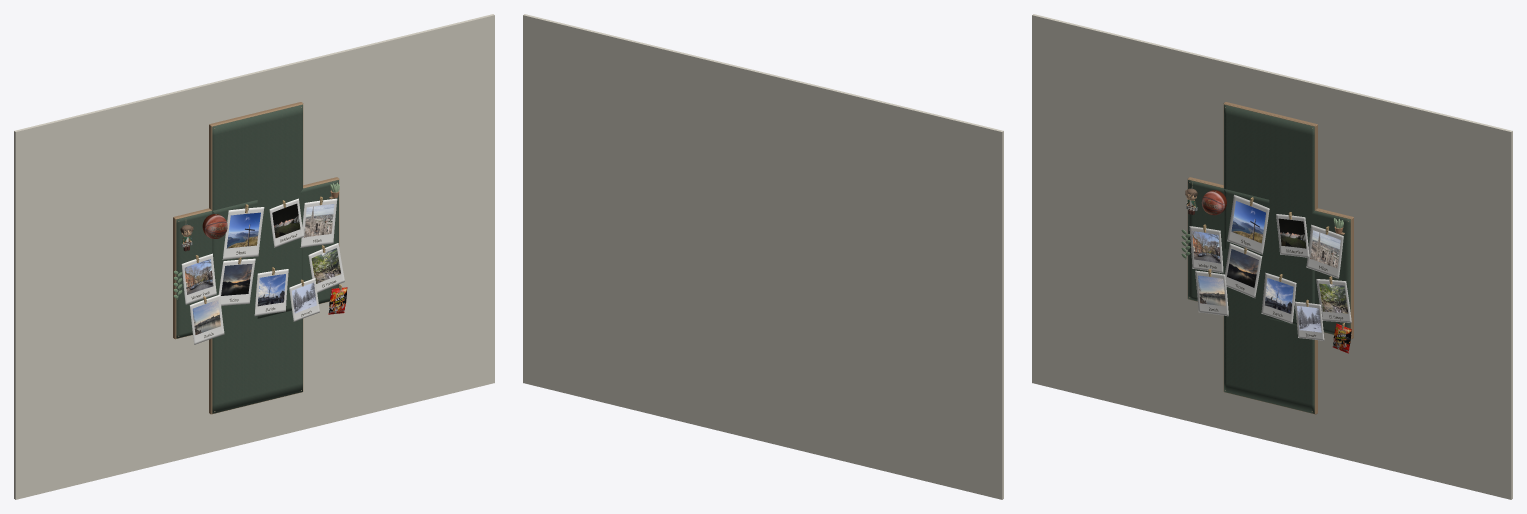
File: travel-board.glb
3 views of the same model, side by side, from view 1: azimuth 30°, elevation 25°; view 2: azimuth 150°, elevation 25°; view 3: azimuth 330°, elevation 25° (orthographic).
Visible parts, largest first — view 1: Wall, CanvasBoardPortrait_Olive cotton canvas fabric, CanvasBoardLandscape_Olive cotton canvas fabric, Photo_17_Original photograph 17, Photo_4_Original photograph 4, Photo_1_Original photograph 1, Photo_17_Warm cotton photo paper, Photo_12_Original photograph 12, Photo_15_Original photograph 15, CanvasBoardPortrait_Honey oak canvas stretcher, Photo_11_Original photograph 11, Photo_3_Original photograph 3 (+11 smaller); view 2: Wall; view 3: Wall, CanvasBoardPortrait_Olive cotton canvas fabric, CanvasBoardLandscape_Olive cotton canvas fabric, Photo_17_Original photograph 17, Photo_4_Original photograph 4, Photo_1_Original photograph 1, Photo_17_Warm cotton photo paper, Photo_15_Original photograph 15, Photo_12_Original photograph 12, CanvasBoardPortrait_Honey oak canvas stretcher, Photo_11_Original photograph 11, Photo_3_Original photograph 3 (+11 smaller).
Boxes of the visible parts, x1,y1,x2,y2 form: Wall: (14,14,494,499); CanvasBoardPortrait_Olive cotton canvas fabric: (212,104,302,413); CanvasBoardLandscape_Olive cotton canvas fabric: (176,180,338,338); Photo_17_Original photograph 17: (226,212,260,248); Photo_4_Original photograph 4: (304,204,334,237); Photo_1_Original photograph 1: (221,264,252,295); Photo_17_Warm cotton photo paper: (222,207,264,259); Photo_12_Original photograph 12: (257,274,285,306); Photo_15_Original photograph 15: (184,259,213,294); CanvasBoardPortrait_Honey oak canvas stretcher: (209,102,303,414); Photo_11_Original photograph 11: (192,300,220,334); Photo_3_Original photograph 3: (311,248,340,283); Wall: (523,14,1003,499); Wall: (1032,14,1512,499); CanvasBoardPortrait_Olive cotton canvas fabric: (1224,104,1314,413); CanvasBoardLandscape_Olive cotton canvas fabric: (1188,180,1350,334); Photo_17_Original photograph 17: (1231,201,1265,243); Photo_4_Original photograph 4: (1310,230,1340,268); Photo_1_Original photograph 1: (1227,249,1258,287); Photo_17_Warm cotton photo paper: (1227,194,1269,254); Photo_15_Original photograph 15: (1192,231,1220,263); Photo_12_Original photograph 12: (1265,278,1293,313); CanvasBoardPortrait_Honey oak canvas stretcher: (1223,102,1317,414); Photo_11_Original photograph 11: (1198,275,1225,306); Photo_3_Original photograph 3: (1319,283,1348,313).
Size of the model in its own units: 30 by 22 by 1.79.
37 materials, 12 textured.
